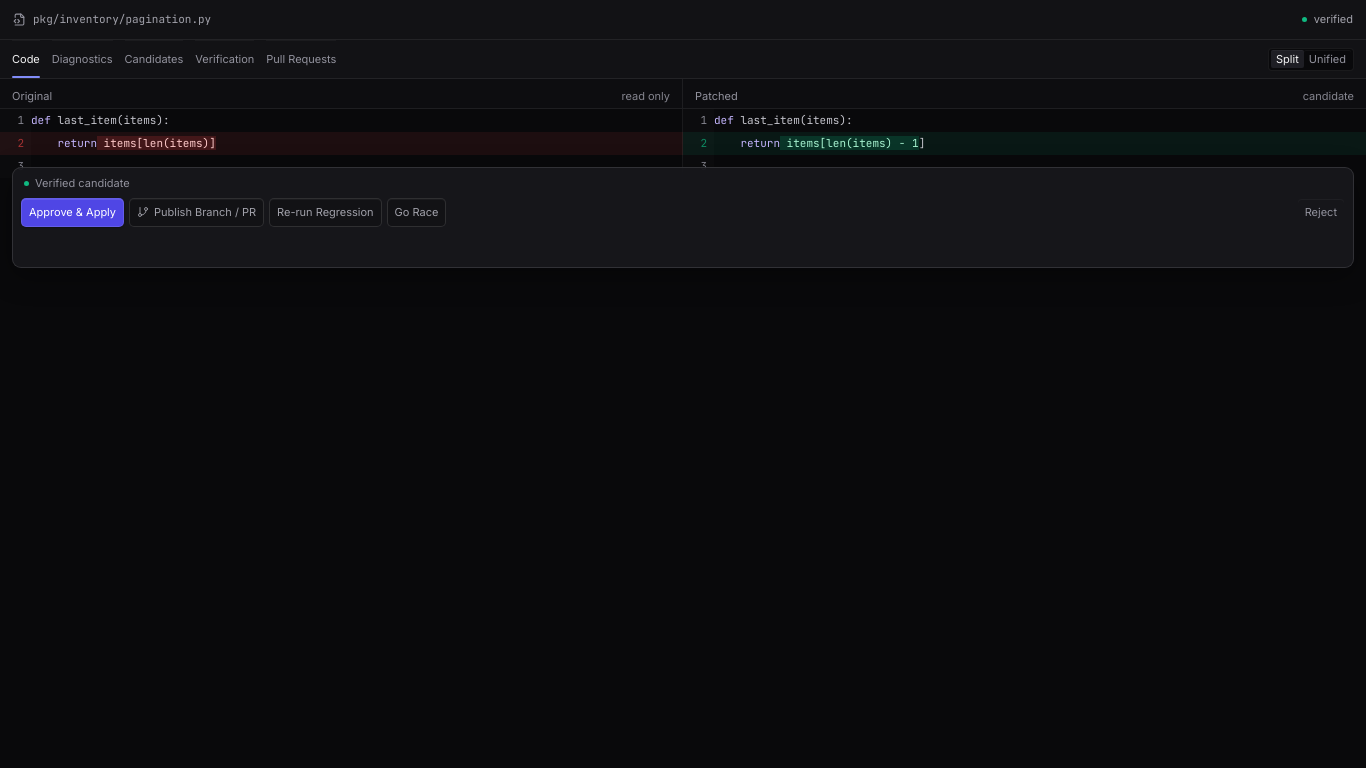
Test: keyboard and engineering inspectors › renders token diff, unified mode and actual AST diagnostics
The width and height of the screenshot is (1366, 768).
Check: the element with class "split-diff" is shown, box [0,79,1365,109]
Check: the text "items[len(items)]" is shown, box [97,136,216,150]
Click the button "Unified".
click(1327, 59)  # box [1304,50,1351,68]
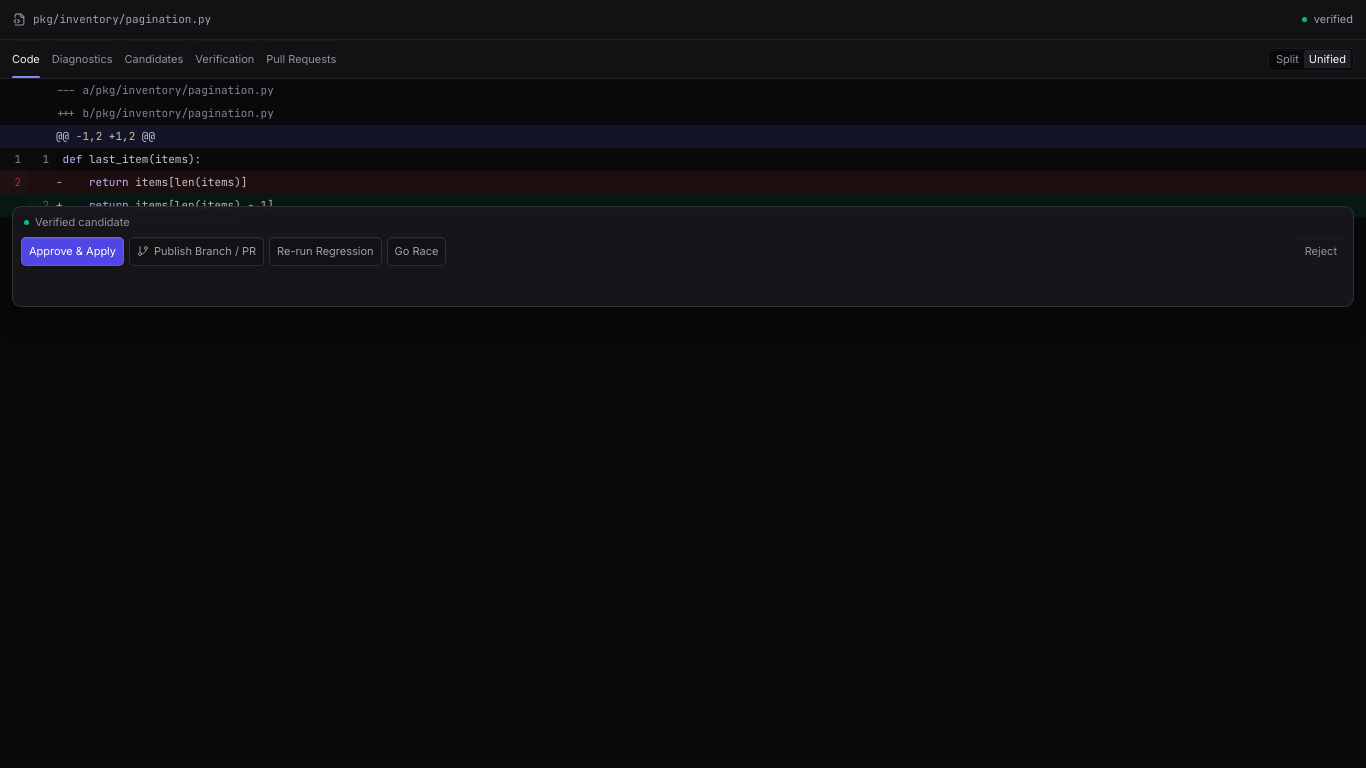
Click the button "diagnostics".
click(82, 59)  # box [52,40,113,78]
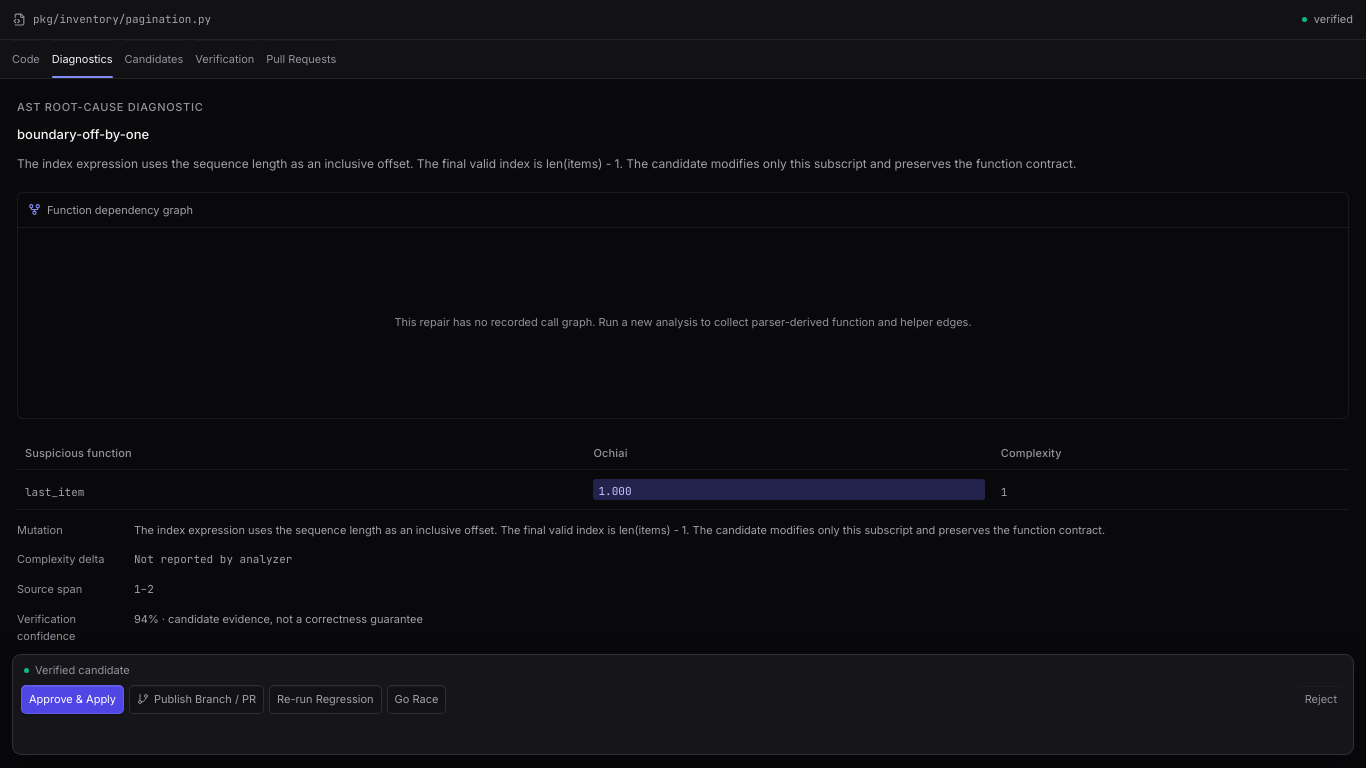
Check: the column heading "Ochiai" is shown, box [586,437,993,470]
Check: the text "Not reported by analyzer" is shown, box [134,552,292,566]
Click the button "verification".
click(225, 59)  # box [195,40,254,78]
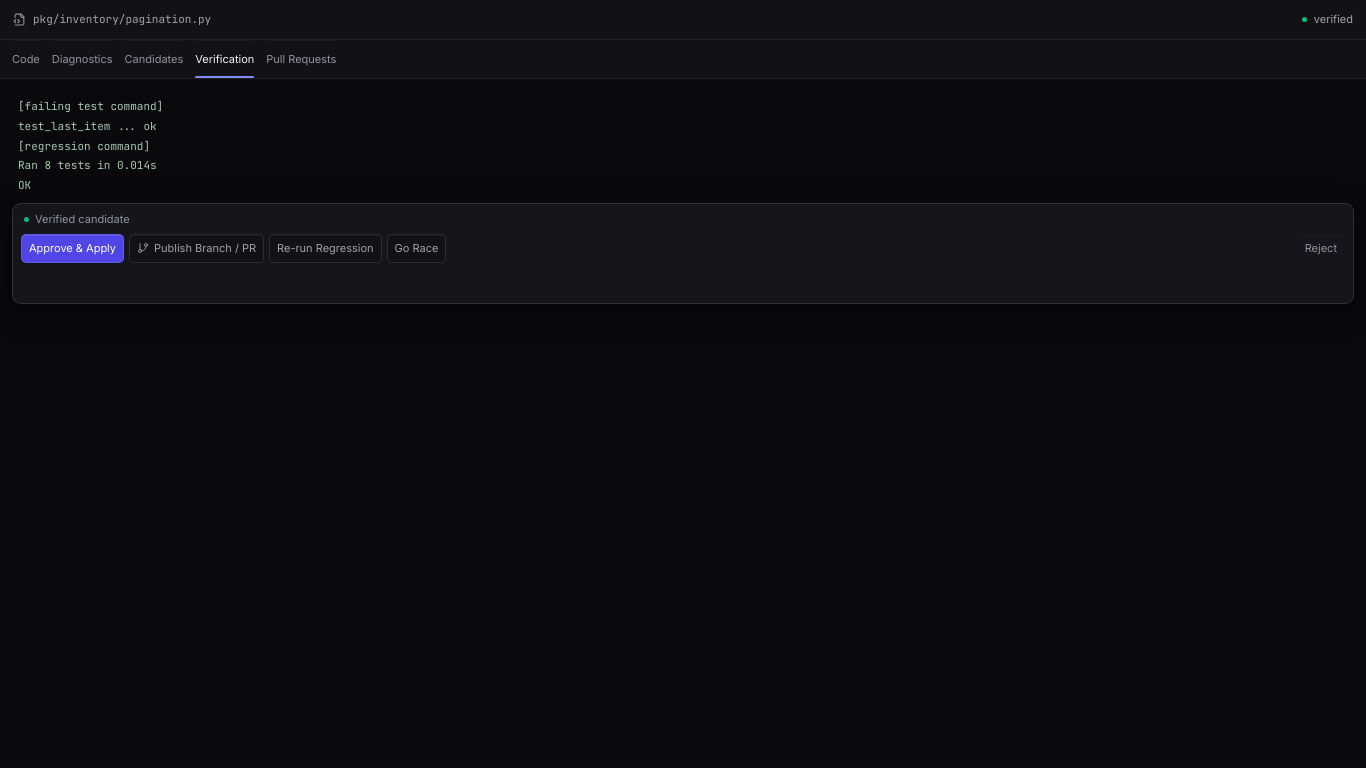
Check: the text "Ran 8 tests" is shown, box [18,99,163,192]
